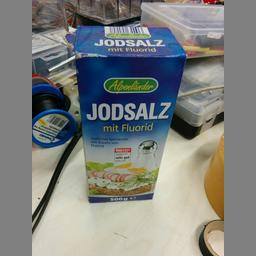spices: (72, 23, 186, 202)
